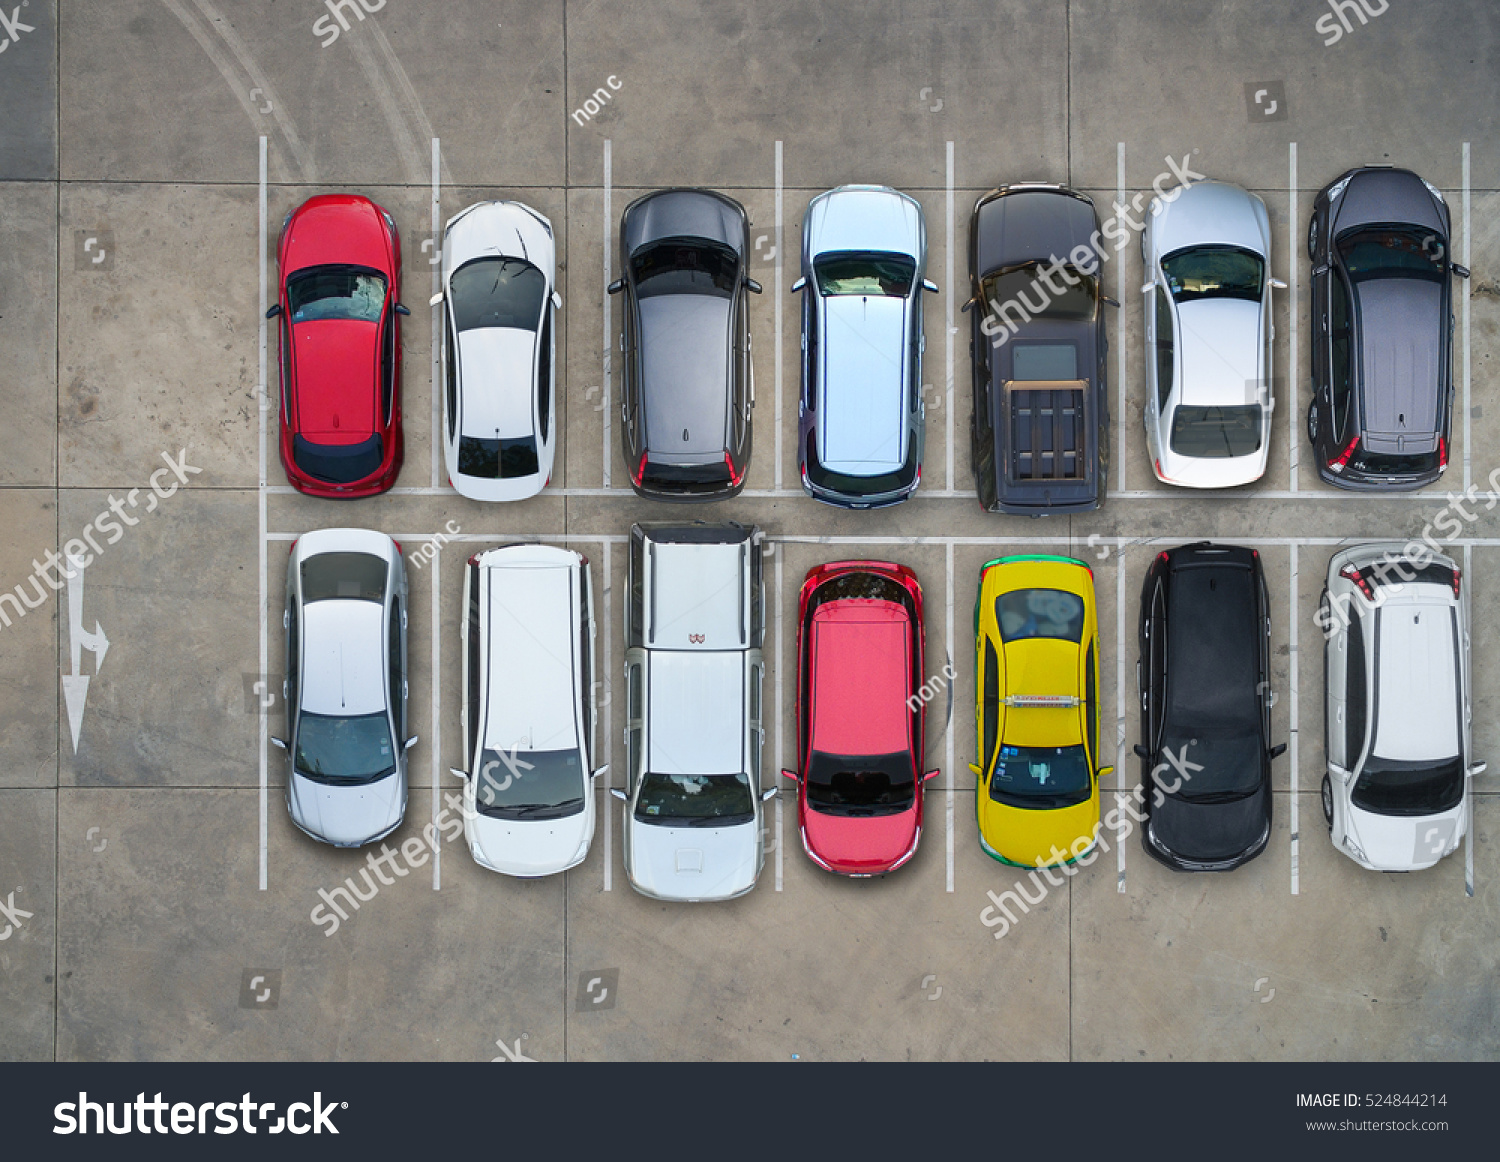Car: (612, 520, 769, 911), (1297, 157, 1457, 501), (1311, 540, 1472, 879), (274, 516, 421, 862), (455, 537, 600, 883), (787, 175, 931, 516), (785, 555, 931, 888), (614, 183, 760, 509), (964, 551, 1109, 878), (1132, 175, 1278, 499), (435, 192, 564, 512), (276, 192, 407, 501)
LaneMark: (58, 537, 111, 764), (257, 132, 272, 895), (765, 536, 1472, 546), (1463, 139, 1472, 903), (1283, 134, 1300, 497), (944, 136, 958, 499), (772, 136, 787, 495), (1286, 546, 1300, 901), (1114, 537, 1127, 901), (944, 540, 957, 901), (772, 537, 785, 895), (1116, 136, 1127, 501), (604, 132, 614, 490), (1113, 492, 1472, 501), (401, 536, 623, 541)
